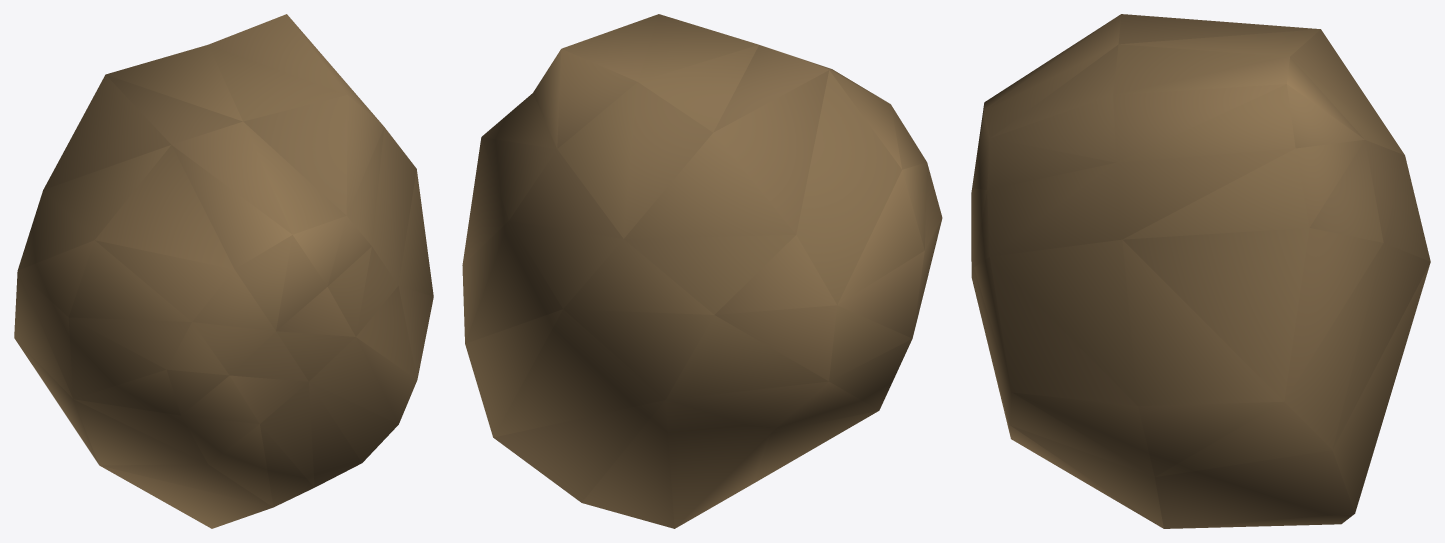
Rendered from SmallSandChunk.001.glb.
The picture shows the model from 3 angles, left to right: view 1: azimuth 30°, elevation 25°; view 2: azimuth 150°, elevation 25°; view 3: azimuth 270°, elevation 25°; orthographic projection. The views are drawn at different scales.
Visible parts, largest first — view 1: SmallSandChunk.001; view 2: SmallSandChunk.001; view 3: SmallSandChunk.001.
Boxes of the visible parts, left/top/right/bottom form: SmallSandChunk.001: left=14, top=14, right=433, bottom=528; SmallSandChunk.001: left=462, top=14, right=942, bottom=528; SmallSandChunk.001: left=971, top=14, right=1430, bottom=528.
Size of the model in its own units: 238 by 258 by 221.
